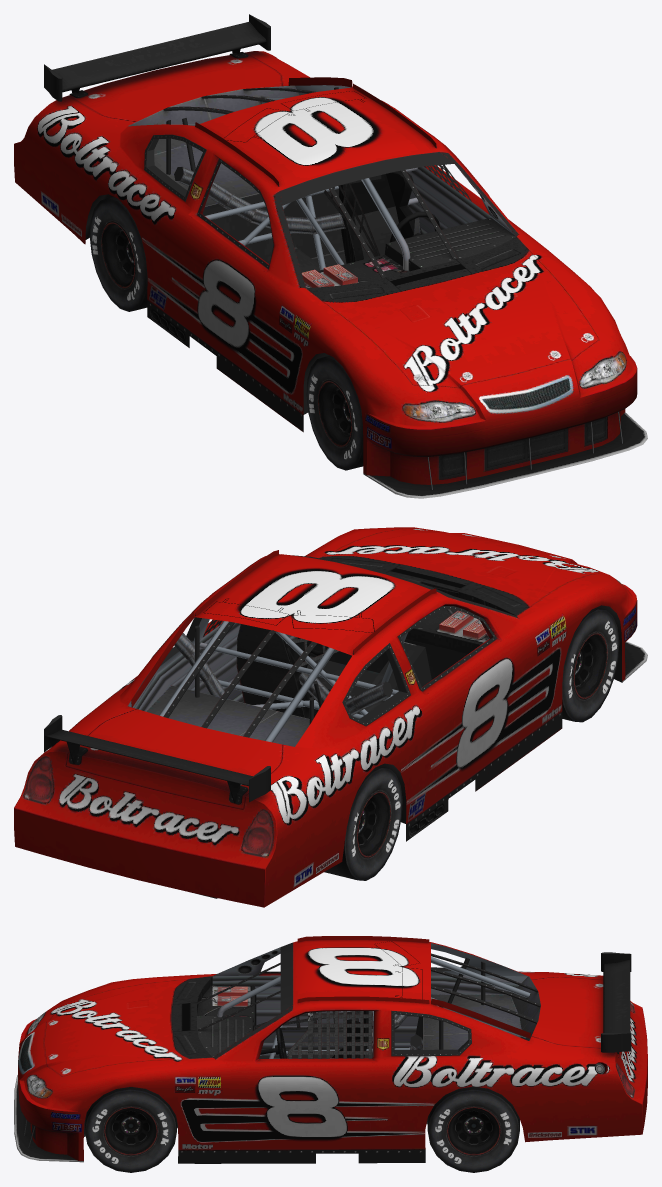
Rendered from Boltracer car.GLB.glb.
The picture shows the model from 3 angles, top to bottom: view 1: azimuth 30°, elevation 25°; view 2: azimuth 150°, elevation 25°; view 3: azimuth 270°, elevation 25°; orthographic projection. The views are drawn at different scales.
Parts seen in each view (by area): view 1: car10_body.001, car10_underbody.001, wheelRR.001, wheelFR.001; view 2: car10_body.001, car10_underbody.001, wheelRR.001, wheelFR.001; view 3: car10_body.001, car10_underbody.001, wheelRL.001, wheelFL.001.
Part boxes in pixels (<box>): car10_body.001: <box>14,14,647,498</box>; car10_underbody.001: <box>85,85,622,489</box>; wheelRR.001: <box>89,197,147,311</box>; wheelFR.001: <box>306,355,363,470</box>; car10_body.001: <box>14,527,647,907</box>; car10_underbody.001: <box>127,577,622,898</box>; wheelRR.001: <box>324,766,402,880</box>; wheelFR.001: <box>562,607,619,722</box>; car10_body.001: <box>14,936,647,1163</box>; car10_underbody.001: <box>24,943,540,1147</box>; wheelRL.001: <box>427,1086,519,1172</box>; wheelFL.001: <box>85,1087,176,1172</box>.
Size of the model in its own units: 1.98 by 1.45 by 5.26.
6 materials, 6 textured.
